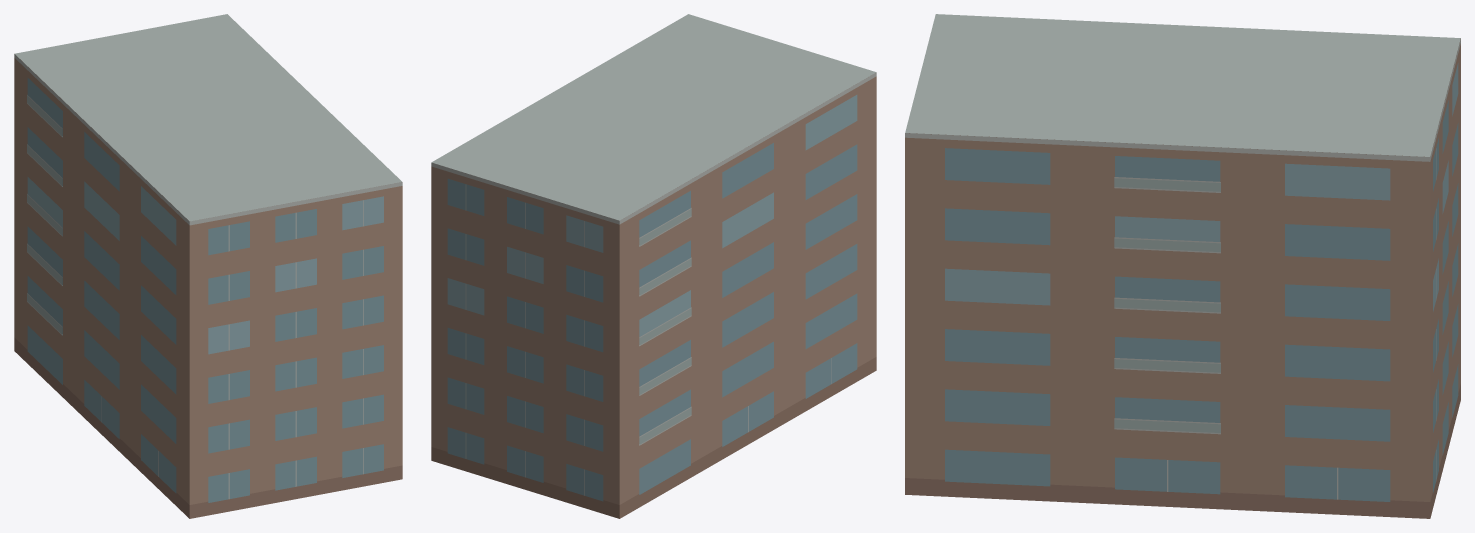
File: residential-10eae939-ac51-4a7c-baf2-9e2db2f931a3.glb
3 renders of one model, left to right at view 1: azimuth 30°, elevation 25°; view 2: azimuth 150°, elevation 25°; view 3: azimuth 270°, elevation 25°, orthographic. The views are drawn at different scales.
Parts seen in each view (by area): view 1: residential-10eae939-ac51-4a7c-baf2-9e2db2f931a3.tmp; view 2: residential-10eae939-ac51-4a7c-baf2-9e2db2f931a3.tmp; view 3: residential-10eae939-ac51-4a7c-baf2-9e2db2f931a3.tmp.
Boxes of the visible parts, x1=… form: residential-10eae939-ac51-4a7c-baf2-9e2db2f931a3.tmp: x1=14, y1=14, x2=402, y2=518; residential-10eae939-ac51-4a7c-baf2-9e2db2f931a3.tmp: x1=431, y1=14, x2=876, y2=518; residential-10eae939-ac51-4a7c-baf2-9e2db2f931a3.tmp: x1=905, y1=14, x2=1460, y2=518.
Size of the model in its own units: 15.52 by 18.3 by 25.48.
